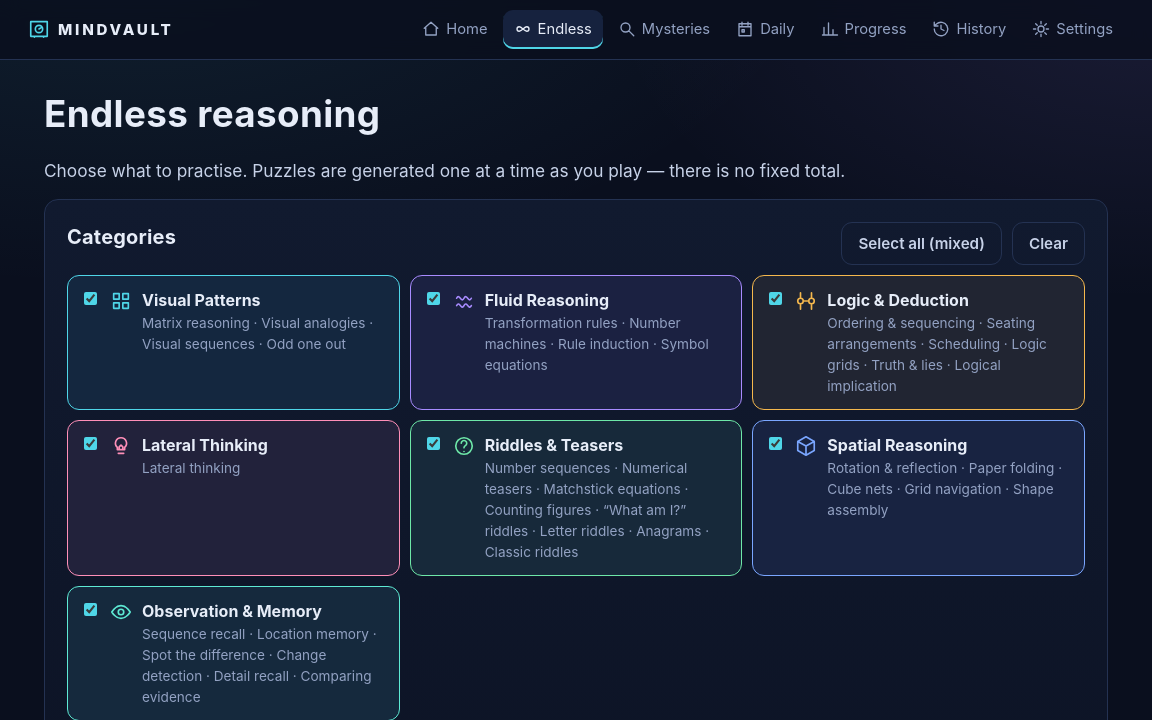
Test: app shell › starts an endless session from the setup screen
Click the button "Clear" at (1048, 243), box [1012, 222, 1085, 265]
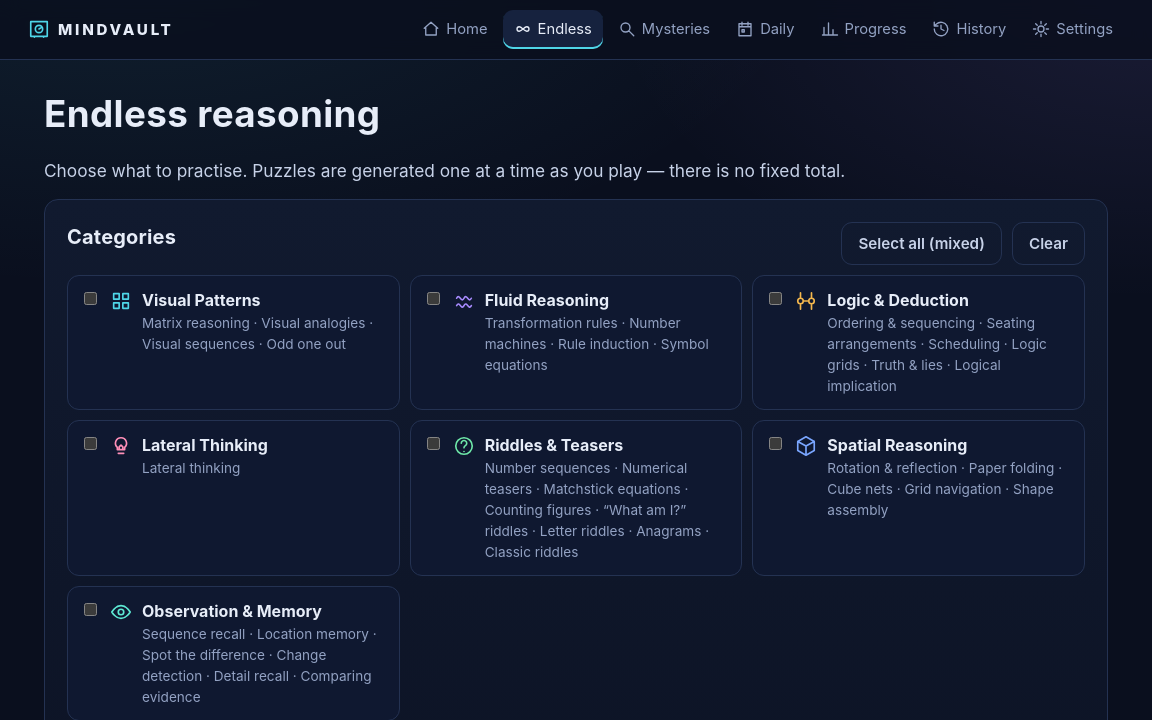
Click the text "Logic & Deduction" at (898, 300), box [827, 290, 969, 310]
(page scrolled)
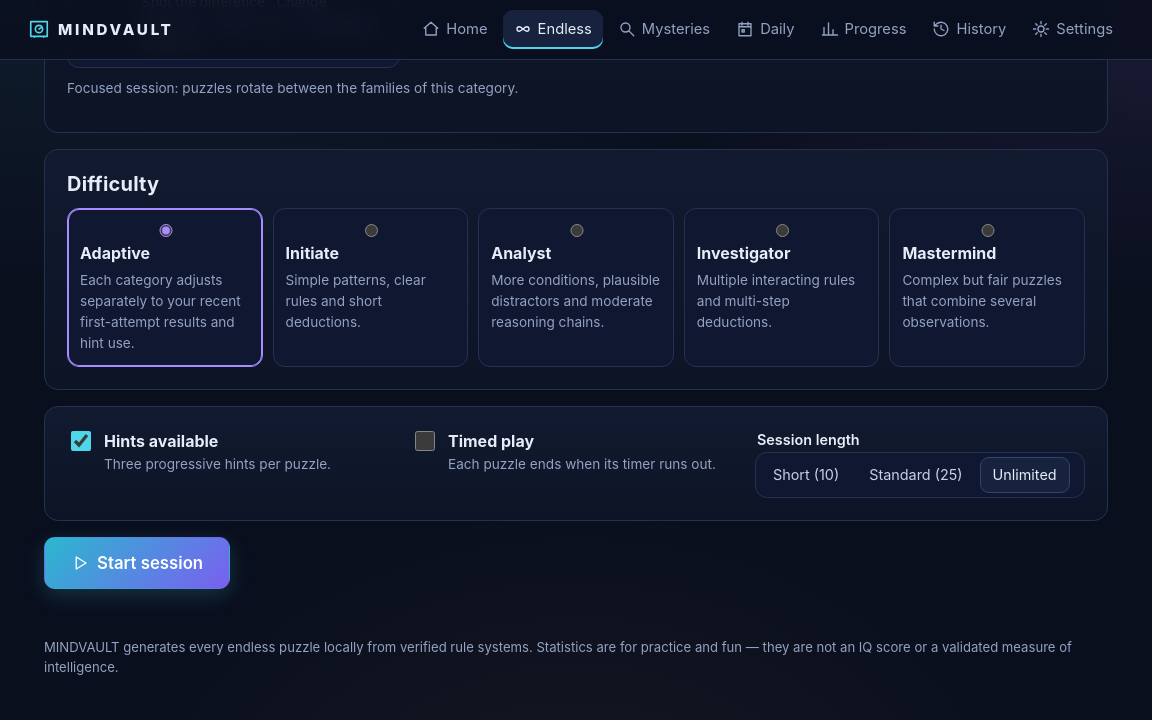
Click the button "Start session" at (137, 563), box [44, 537, 230, 589]
(page scrolled)
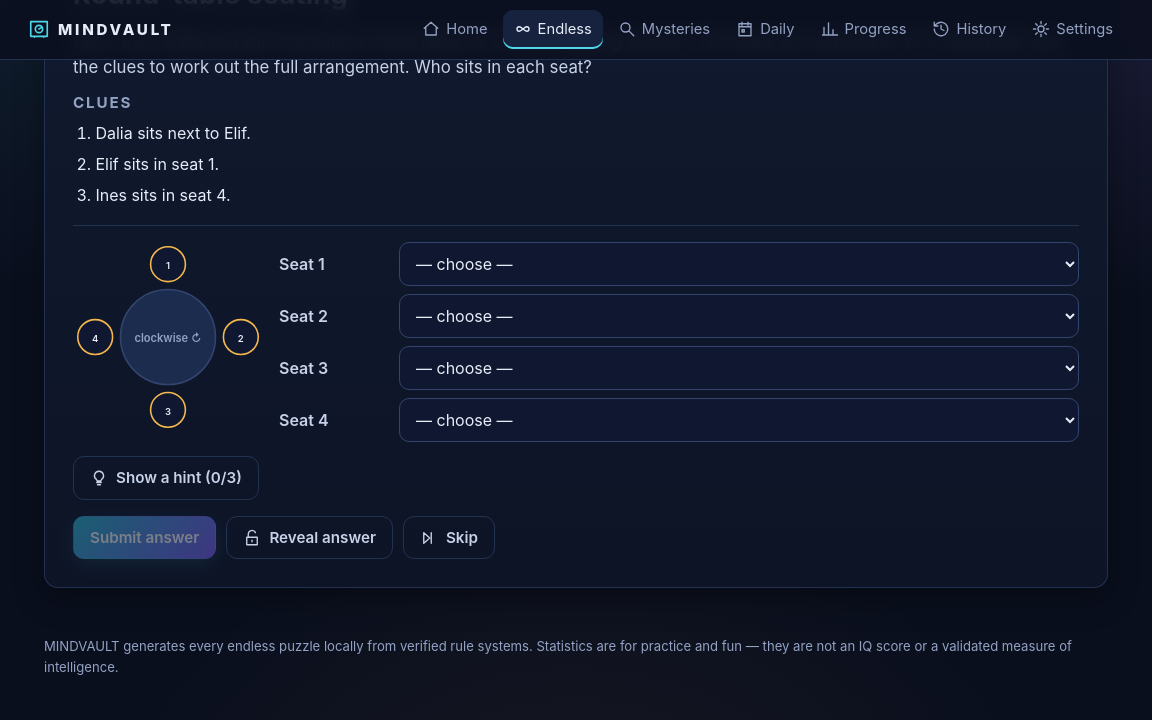
Now the button "Submit answer" is shown, box [73, 516, 216, 560]
Now the button "Skip" is shown, box [403, 516, 495, 560]
